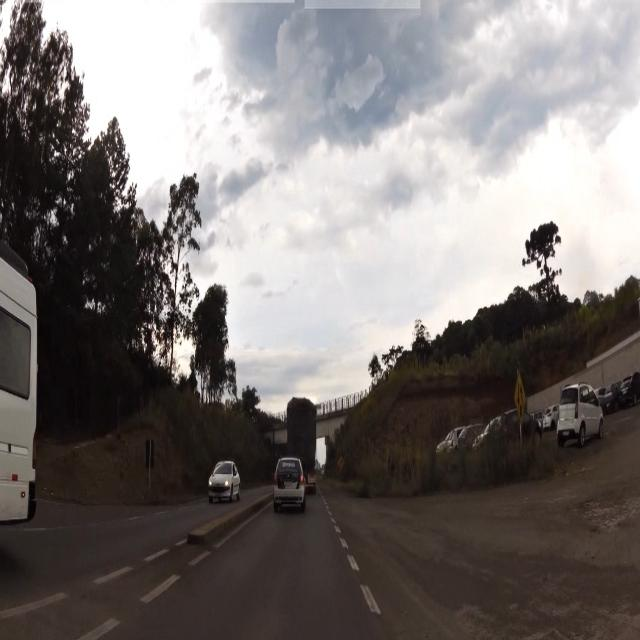A-42b: (513, 374, 527, 426)
